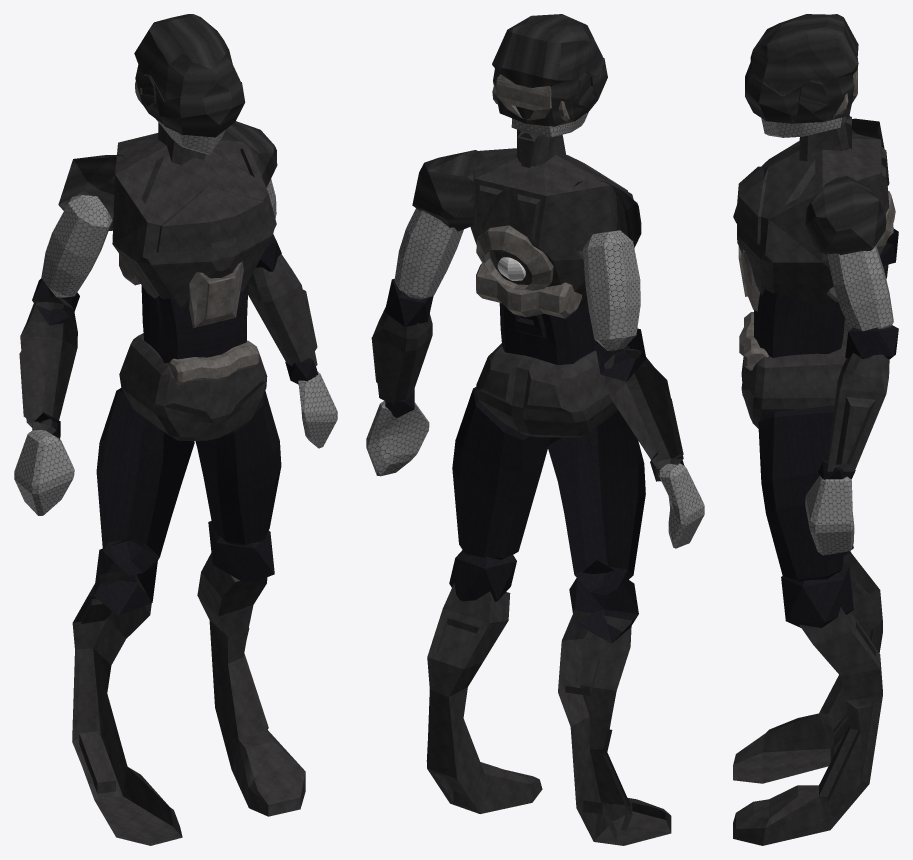
The model's file is player_NULL.obj.
The picture shows the model from 3 angles, left to right: view 1: azimuth 30°, elevation 25°; view 2: azimuth 150°, elevation 25°; view 3: azimuth 270°, elevation 25°; orthographic projection. The views are drawn at different scales.
Parts seen in each view (by area): view 1: Cylinder.001; view 2: Cylinder.001; view 3: Cylinder.001.
Part boxes in pixels (bbox=[...]): Cylinder.001: bbox=[14, 14, 337, 845]; Cylinder.001: bbox=[366, 14, 704, 845]; Cylinder.001: bbox=[733, 14, 898, 845].
Bounding box in the file's own units: 4.41 × 10.66 × 2.05.
Materials: 6 (6 with a texture image).
